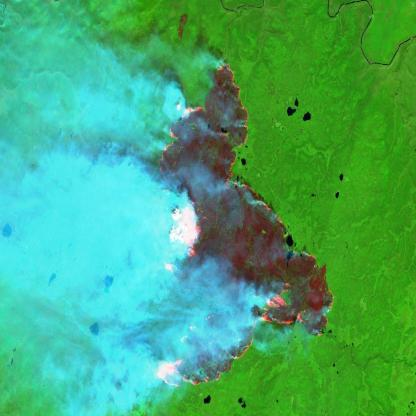fire: (115, 56, 338, 392)
